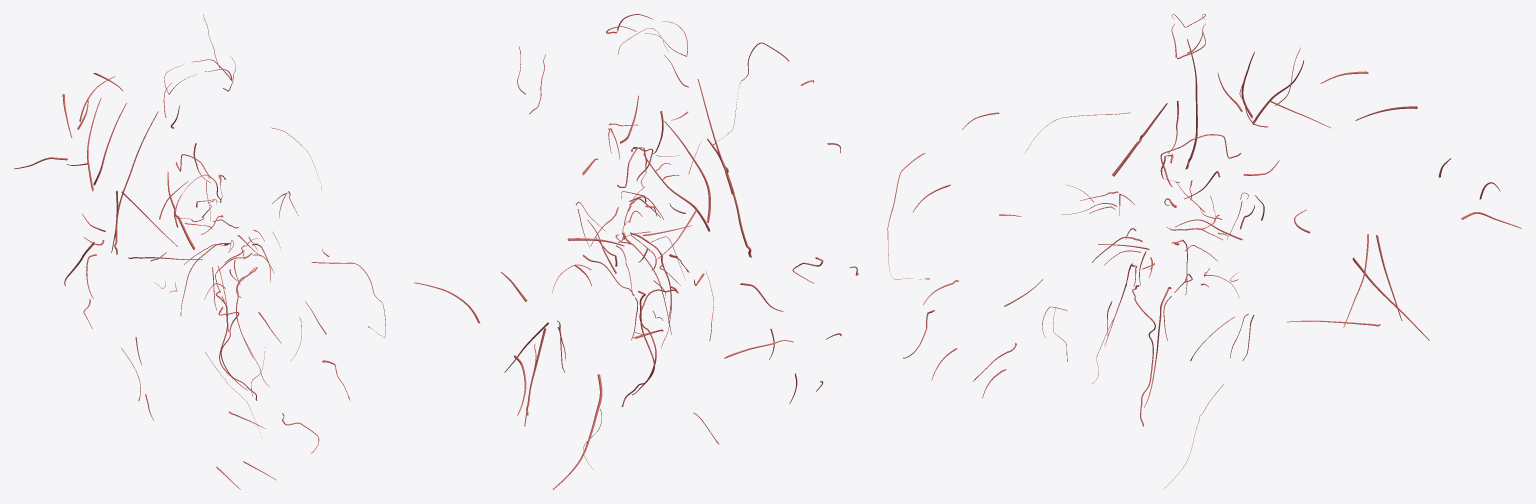
3 views of the same model, side by side, from view 1: azimuth 30°, elevation 25°; view 2: azimuth 150°, elevation 25°; view 3: azimuth 270°, elevation 25° (orthographic). The views are drawn at different scales.
Bounding box in the file's own units: 75.23 × 159 × 207.
